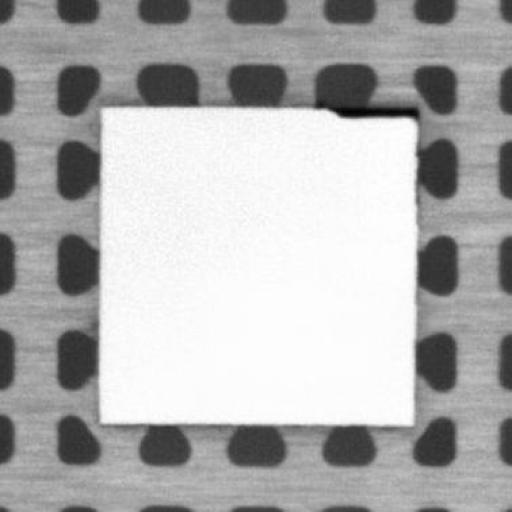DIE_BROKEN: (321, 102, 421, 120)
